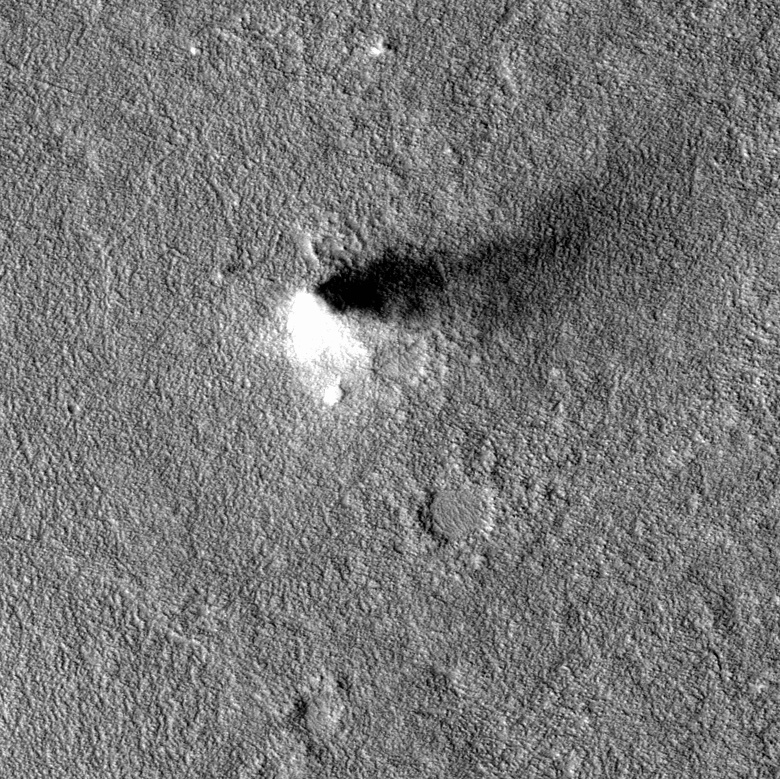dust_devil: (279, 229, 587, 377)
